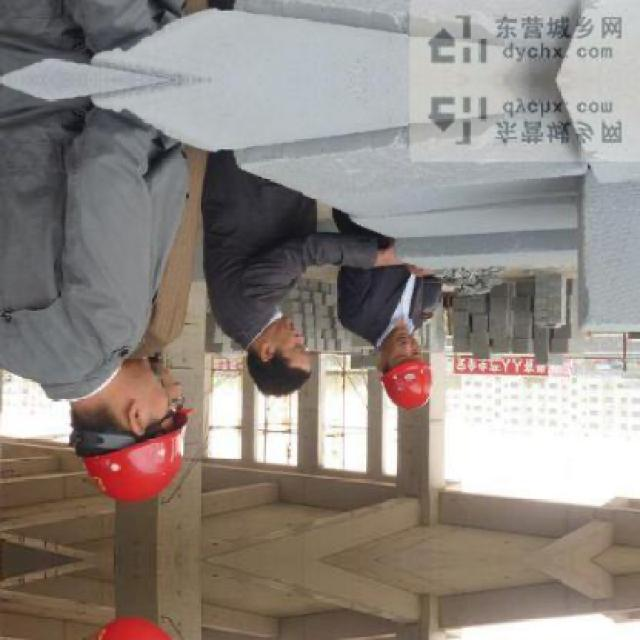con casco: (51, 346, 226, 508), (391, 318, 481, 408)
sin casco: (218, 312, 321, 395)
